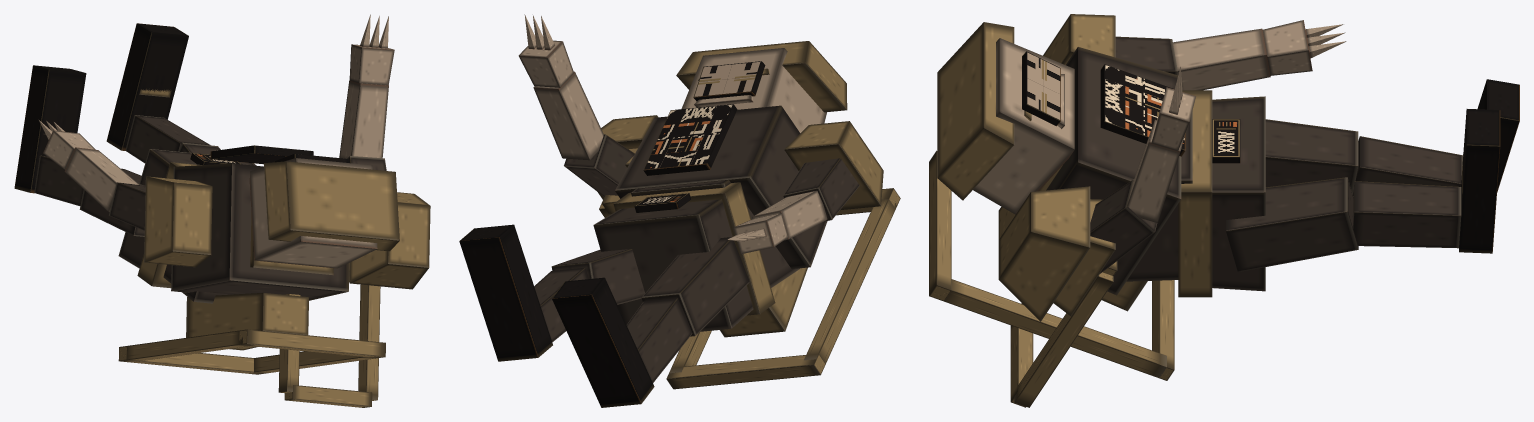
File: jurisiel_attack.obj
The picture shows the model from 3 angles, left to right: view 1: azimuth 30°, elevation 25°; view 2: azimuth 150°, elevation 25°; view 3: azimuth 270°, elevation 25°; orthographic projection. The views are drawn at different scales.
Visible parts, largest first — view 1: jurisiel_attack; view 2: jurisiel_attack; view 3: jurisiel_attack.
Boxes of the visible parts, left/top/right/bottom form: jurisiel_attack: left=14, top=14, right=430, bottom=407; jurisiel_attack: left=459, top=14, right=900, bottom=407; jurisiel_attack: left=929, top=14, right=1519, bottom=407.
Size of the model in its own units: 0.6929 by 0.7462 by 1.04.
Materials: 1 (1 with a texture image).
